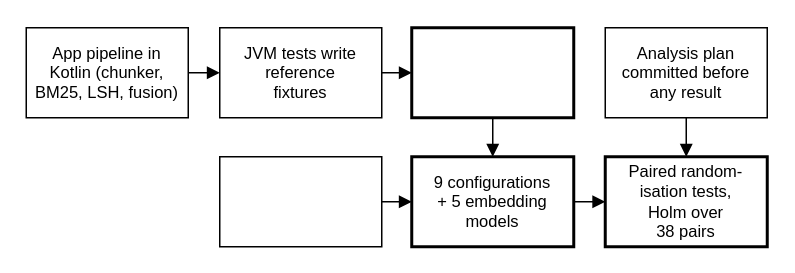
This 795x273 diagram has some shape labels left out. The centre of each missing label's shape, as x and y in pixels:
5 BEIR test sets (SciFact … TREC-COVID): pixel 300 201
Python port, checked against the fixtures: pixel 492 72
